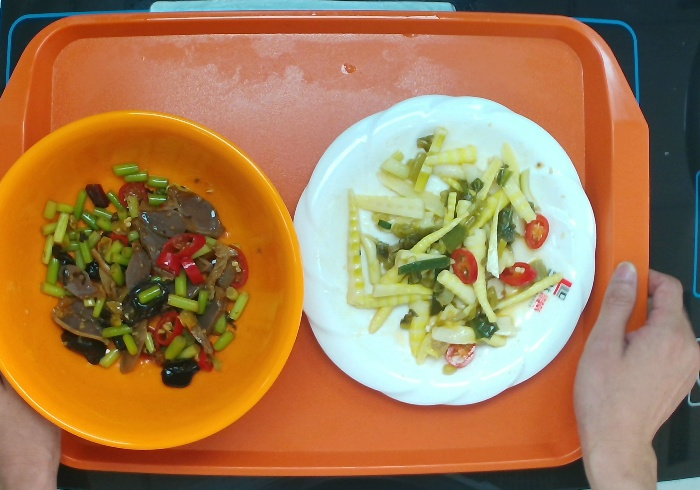ZNLD-Hua_Bian_Wan: (285, 85, 610, 418)
ZNLD-Ju_Se_Tang_Wan: (1, 106, 309, 459)
